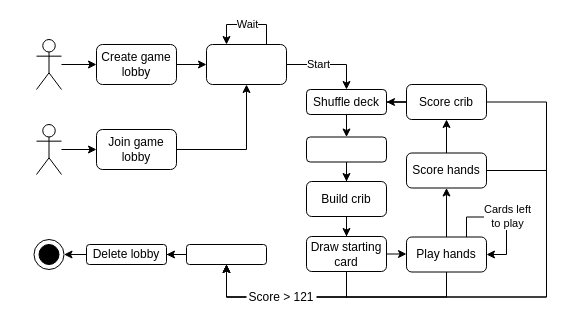
The diagram is 572 pixels wide and 324 high, and some of its shapes have lost their labels. The centre of each missing label's shape, as x and y in pixels:
"Draw hands" goes at (x=346, y=149).
"Handle lobby" goes at (x=246, y=64).
"Player 1" goes at (x=49, y=64).
"Players 2..4" goes at (x=49, y=149).
"Win game" goes at (x=226, y=254).
